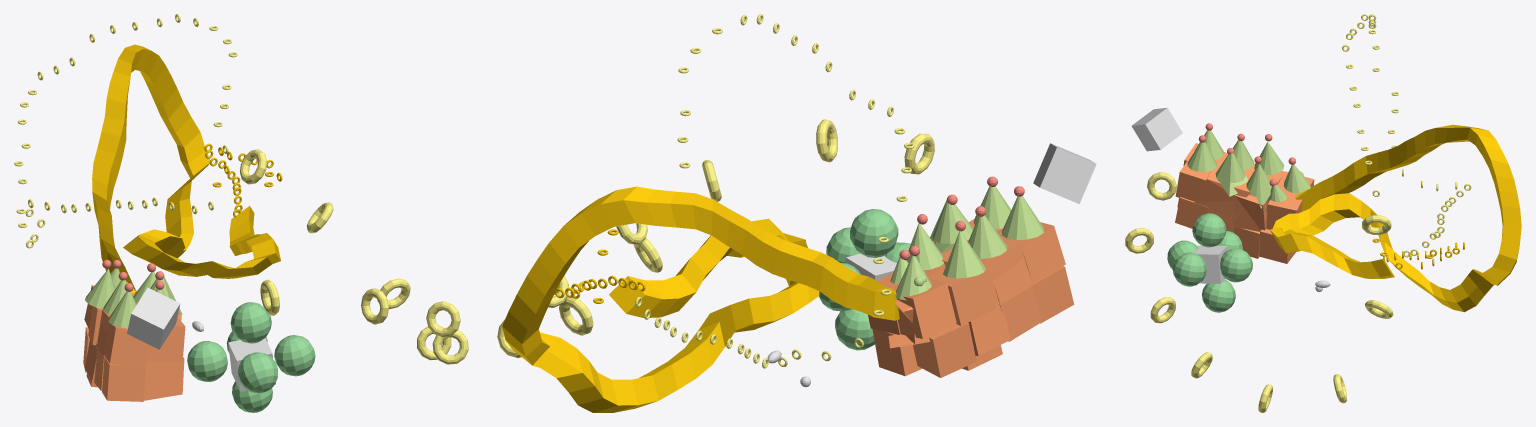
The model's file is rollercoaster.gltf.
The picture shows the model from 3 angles, left to right: view 1: azimuth 30°, elevation 25°; view 2: azimuth 150°, elevation 25°; view 3: azimuth 270°, elevation 25°; orthographic projection. The views are drawn at different scales.
Visible parts, largest first — view 1: group_2132432464, mesh_380881663, mesh_1773200528, mesh_505761558, mesh_1353644070, mesh_1649439577, mesh_954962095, mesh_161466749, mesh_1531647020, mesh_1241757619, mesh_378118959, mesh_1302420180 (+10 smaller); view 2: group_2132432464, mesh_380881663, mesh_1621336559, mesh_1099952471, mesh_1561368265, mesh_1531647020, mesh_1353644070, mesh_1773200528, mesh_862568288, mesh_2139213425, mesh_1091032606, mesh_1490017852 (+17 smaller); view 3: group_2132432464, mesh_380881663, mesh_1524633076, mesh_1586904515, mesh_1649439577, mesh_1531647020, mesh_622439827, mesh_1490017852, mesh_60830589, mesh_378118959, mesh_1241757619, mesh_838304444 (+14 smaller).
Part boxes in pixels (bbox=[...]): group_2132432464: bbox=[92, 44, 280, 293]; mesh_380881663: bbox=[127, 287, 180, 349]; mesh_1773200528: bbox=[102, 356, 145, 401]; mesh_505761558: bbox=[143, 357, 184, 400]; mesh_1353644070: bbox=[104, 323, 149, 367]; mesh_1649439577: bbox=[274, 335, 315, 376]; mesh_954962095: bbox=[187, 341, 227, 381]; mesh_161466749: bbox=[238, 352, 277, 393]; mesh_1531647020: bbox=[230, 302, 271, 343]; mesh_1241757619: bbox=[147, 318, 185, 362]; mesh_378118959: bbox=[228, 338, 275, 391]; mesh_1302420180: bbox=[426, 301, 460, 337]; group_2132432464: bbox=[502, 186, 899, 412]; mesh_380881663: bbox=[1033, 143, 1096, 203]; mesh_1621336559: bbox=[913, 323, 976, 377]; mesh_1099952471: bbox=[895, 279, 956, 338]; mesh_1561368265: bbox=[928, 269, 995, 325]; mesh_1531647020: bbox=[850, 209, 898, 257]; mesh_1353644070: bbox=[1022, 222, 1065, 283]; mesh_1773200528: bbox=[1032, 266, 1074, 323]; mesh_862568288: bbox=[968, 301, 1010, 355]; mesh_2139213425: bbox=[999, 286, 1041, 341]; mesh_1091032606: bbox=[872, 329, 922, 376]; mesh_1490017852: bbox=[835, 309, 874, 350]; group_2132432464: bbox=[1270, 124, 1521, 312]; mesh_380881663: bbox=[1131, 107, 1182, 151]; mesh_1524633076: bbox=[1194, 164, 1251, 219]; mesh_1586904515: bbox=[1234, 195, 1268, 231]; mesh_1649439577: bbox=[1172, 252, 1206, 286]; mesh_1531647020: bbox=[1192, 213, 1226, 247]; mesh_622439827: bbox=[1220, 248, 1252, 282]; mesh_1490017852: bbox=[1202, 279, 1235, 312]; mesh_60830589: bbox=[1215, 150, 1248, 196]; mesh_378118959: bbox=[1191, 245, 1227, 283]; mesh_1241757619: bbox=[1175, 157, 1210, 201]; mesh_838304444: bbox=[1266, 191, 1302, 229].
Bounding box in the file's own units: 32.75 × 28.4 × 34.51.
